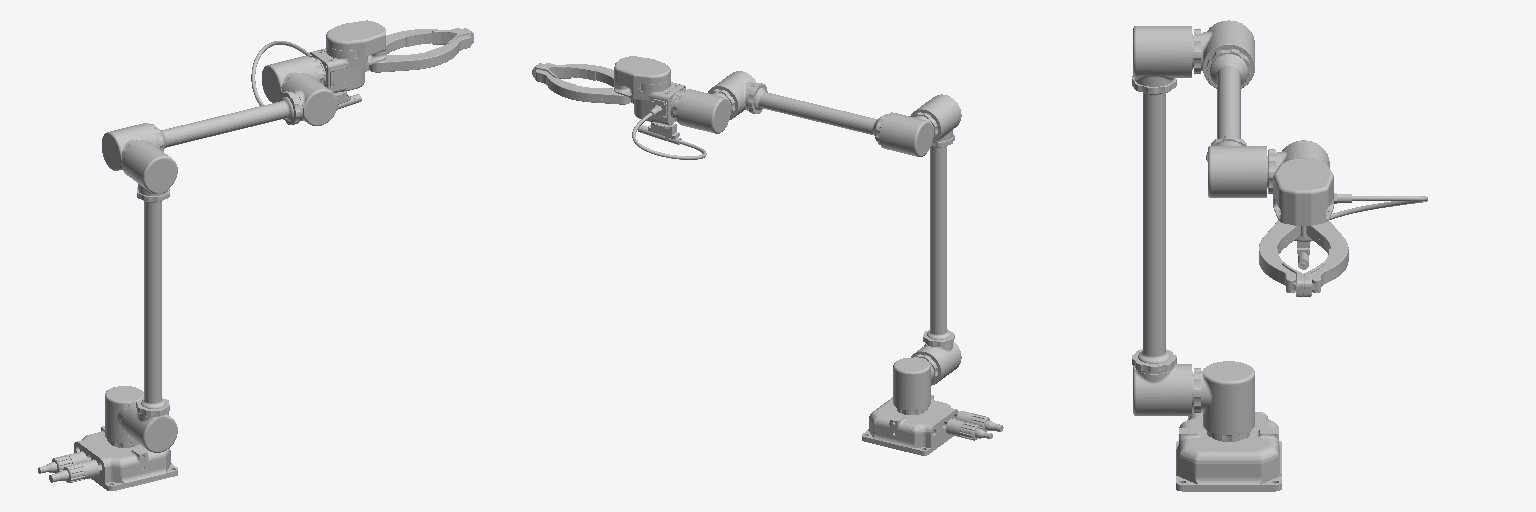
URDF robot description (hdt_arm):
<?xml version="1.0" ?>
<!-- =================================================================================== -->
<!-- |    This document was autogenerated by xacro from hdt_angler_mujoco.xacro        | -->
<!-- |    EDITING THIS FILE BY HAND IS NOT RECOMMENDED                                 | -->
<!-- =================================================================================== -->
<robot name="hdt_arm" xmlns:xacro="http://www.ros.org/wiki/xacro">
  <mujoco>
    <compiler balanceinertia="true" discardvisual="false" fusestatic="true" meshdir="../meshes/" strippath="true"/>
  </mujoco>
  <!-- materials -->
  <material name="black">
    <color rgba="0.78431372549 0.78431372549 0.78431372549 1.0"/>
  </material>
  <material name="grey">
    <color rgba="0.250980392157 0.250980392157 0.250980392157 1.0"/>
  </material>
  <material name="yellow">
    <color rgba="0.941176470588 0.878431372549 0.250980392157 1.0"/>
  </material>
  <!-- segment 0 -->
  <link name="base_link"/>
  <!-- pedestal -->
  <joint name="pedestal_joint" type="fixed">
    <origin rpy="0 0 0" xyz="0 0 0"/>
    <parent link="base_link"/>
    <child link="pedestal_link"/>
  </joint>
  <link name="pedestal_link">
    <collision>
      <origin rpy="0 0 0" xyz="0 0 0"/>
      <geometry>
        <mesh filename="package://hdt_angler_description/meshes/H026994 - A35 M-2 PEDESTAL ASSY - SHAREABLE.STL"/>
      </geometry>
    </collision>
    <visual>
      <origin rpy="0 0 0" xyz="0 0 0"/>
      <geometry>
        <mesh filename="package://hdt_angler_description/meshes/H026994 - A35 M-2 PEDESTAL ASSY - SHAREABLE.STL"/>
      </geometry>
      <material name="black"/>
    </visual>
    <inertial>
      <origin rpy="0 0 0" xyz="0 0 0"/>
      <mass value="1"/>
      <inertia ixx="0.005" ixy="0.0" ixz="0.0" iyy="0.005" iyz="0.0" izz="0.005"/>
    </inertial>
  </link>
  <!-- drive 1 -->
  <joint name="drive1_joint" type="revolute">
    <axis xyz="0 0 1"/>
    <limit effort="60.0" lower="-6.28318530718" upper="6.28318530718" velocity="0.785398163397"/>
    <origin rpy="0 0 -1.57079632679" xyz="0 0 0.08335"/>
    <parent link="pedestal_link"/>
    <child link="drive1_link"/>
    <dynamics damping="0.7" friction="0.0"/>
  </joint>
  <link name="drive1_link">
    <collision>
      <origin rpy="0 0 0" xyz="0 0 0"/>
      <geometry>
        <mesh filename="package://hdt_angler_description/meshes/H024840 - A35 M-2 DRIVE MODULE, SHAREABLE.STL"/>
      </geometry>
    </collision>
    <visual>
      <origin rpy="0 0 0" xyz="0 0 0"/>
      <geometry>
        <mesh filename="package://hdt_angler_description/meshes/H024840 - A35 M-2 DRIVE MODULE, SHAREABLE.STL"/>
      </geometry>
      <material name="black"/>
    </visual>
    <inertial>
      <origin rpy="0 0 0" xyz="0 0 0"/>
      <mass value="1"/>
      <inertia ixx="0.005" ixy="0.0" ixz="0.0" iyy="0.005" iyz="0.0" izz="0.005"/>
    </inertial>
  </link>
  <!-- drive 2 -->
  <joint name="drive2_joint" type="revolute">
    <axis xyz="0 0 1"/>
    <limit effort="60.0" lower="-1.57079632679" upper="1.57079632679" velocity="0.785398163397"/>
    <origin rpy="0 -1.57079632679 0" xyz="0.07155 0 0"/>
    <parent link="drive1_link"/>
    <child link="drive2_link"/>
    <dynamics damping="0.7" friction="0.0"/>
  </joint>
  <link name="drive2_link">
    <collision>
      <origin rpy="3.14159265359 0 0" xyz="0 0 0"/>
      <geometry>
        <mesh filename="package://hdt_angler_description/meshes/H024840 - A35 M-2 DRIVE MODULE, SHAREABLE.STL"/>
      </geometry>
    </collision>
    <visual>
      <origin rpy="3.14159265359 0 0" xyz="0 0 0"/>
      <geometry>
        <mesh filename="package://hdt_angler_description/meshes/H024840 - A35 M-2 DRIVE MODULE, SHAREABLE.STL"/>
      </geometry>
      <material name="black"/>
    </visual>
    <inertial>
      <origin rpy="3.14159265359 0 0" xyz="0 0 0"/>
      <mass value="1"/>
      <inertia ixx="0.005" ixy="0.0" ixz="0.0" iyy="0.005" iyz="0.0" izz="0.005"/>
    </inertial>
  </link>
  <!-- humerus -->
  <joint name="humerus_joint" type="fixed">
    <origin rpy="0 0 0" xyz="0.17855 0 0"/>
    <parent link="drive2_link"/>
    <child link="humerus_link"/>
  </joint>
  <link name="humerus_link">
    <collision>
      <origin rpy="0 0 0" xyz="0 0 0"/>
      <geometry>
        <mesh filename="package://hdt_angler_description/meshes/H024847 - A35 M-2 PROXIMAL TUBE ASSY - SHAREABLE.STL"/>
      </geometry>
    </collision>
    <visual>
      <origin rpy="0 0 0" xyz="0 0 0"/>
      <geometry>
        <mesh filename="package://hdt_angler_description/meshes/H024847 - A35 M-2 PROXIMAL TUBE ASSY - SHAREABLE.STL"/>
      </geometry>
      <material name="black"/>
    </visual>
    <inertial>
      <origin rpy="0 0 0" xyz="0 0 0"/>
      <mass value="1"/>
      <inertia ixx="0.005" ixy="0.0" ixz="0.0" iyy="0.005" iyz="0.0" izz="0.005"/>
    </inertial>
  </link>
  <!-- elbow -->
  <joint name="elbow_joint" type="fixed">
    <origin rpy="0 0 0" xyz="0.17855 0 0"/>
    <parent link="humerus_link"/>
    <child link="elbow_link"/>
  </joint>
  <link name="elbow_link">
    <collision>
      <origin rpy="0 3.14159265359 0" xyz="0 0 0"/>
      <geometry>
        <mesh filename="package://hdt_angler_description/meshes/H024840 - A35 M-2 DRIVE MODULE, SHAREABLE.STL"/>
      </geometry>
    </collision>
    <visual>
      <origin rpy="0 3.14159265359 0" xyz="0 0 0"/>
      <geometry>
        <mesh filename="package://hdt_angler_description/meshes/H024840 - A35 M-2 DRIVE MODULE, SHAREABLE.STL"/>
      </geometry>
      <material name="black"/>
    </visual>
    <inertial>
      <origin rpy="0 3.14159265359 0" xyz="0 0 0"/>
      <mass value="1"/>
      <inertia ixx="0.005" ixy="0.0" ixz="0.0" iyy="0.005" iyz="0.0" izz="0.005"/>
    </inertial>
  </link>
  <!-- drive 3 -->
  <joint name="drive3_joint" type="revolute">
    <axis xyz="0 0 1"/>
    <!-- position limits to match parameter settings on actuator -->
    <limit effort="60.0" lower="-4.49" upper="1.35" velocity="0.785398163397"/>
    <origin rpy="0 0 0" xyz="0 0 0.07155"/>
    <parent link="elbow_link"/>
    <child link="drive3_link"/>
    <dynamics damping="0.7" friction="0.0"/>
  </joint>
  <link name="drive3_link">
    <collision>
      <origin rpy="0 1.57079632679 -1.57079632679" xyz="0 0 0"/>
      <geometry>
        <mesh filename="package://hdt_angler_description/meshes/H024840 - A35 M-2 DRIVE MODULE, SHAREABLE.STL"/>
      </geometry>
    </collision>
    <visual>
      <origin rpy="0 1.57079632679 -1.57079632679" xyz="0 0 0"/>
      <geometry>
        <mesh filename="package://hdt_angler_description/meshes/H024840 - A35 M-2 DRIVE MODULE, SHAREABLE.STL"/>
      </geometry>
      <material name="black"/>
    </visual>
    <inertial>
      <origin rpy="0 1.57079632679 -1.57079632679" xyz="0 0 0"/>
      <mass value="1"/>
      <inertia ixx="0.005" ixy="0.0" ixz="0.0" iyy="0.005" iyz="0.0" izz="0.005"/>
    </inertial>
  </link>
  <!-- drive 4 -->
  <joint name="drive4_joint" type="revolute">
    <axis xyz="0 0 1"/>
    <limit effort="60.0" lower="-6.28318530718" upper="6.28318530718" velocity="0.785398163397"/>
    <origin rpy="-1.57079632679 0 0" xyz="0 0.142 0"/>
    <parent link="drive3_link"/>
    <child link="drive4_link"/>
    <dynamics damping="0.7" friction="0.0"/>
  </joint>
  <link name="drive4_link">
    <collision>
      <origin rpy="3.14159265359 0 0" xyz="0 0 0"/>
      <geometry>
        <mesh filename="package://hdt_angler_description/meshes/H024848 - A35 M-2 DISTAL TUBE ASSY - SHAREABLE.STL"/>
      </geometry>
    </collision>
    <visual>
      <origin rpy="3.14159265359 0 0" xyz="0 0 0"/>
      <geometry>
        <mesh filename="package://hdt_angler_description/meshes/H024848 - A35 M-2 DISTAL TUBE ASSY - SHAREABLE.STL"/>
      </geometry>
      <material name="black"/>
    </visual>
    <inertial>
      <origin rpy="3.14159265359 0 0" xyz="0 0 0"/>
      <mass value="1"/>
      <inertia ixx="0.005" ixy="0.0" ixz="0.0" iyy="0.005" iyz="0.0" izz="0.005"/>
    </inertial>
  </link>
  <!-- wrist -->
  <joint name="wrist_joint" type="fixed">
    <origin rpy="1.57079632679 -1.57079632679 3.14159265359" xyz="0 0 0.12955"/>
    <parent link="drive4_link"/>
    <child link="wrist_link"/>
  </joint>
  <link name="wrist_link">
    <collision>
      <origin rpy="0 0 3.14159265359" xyz="0 0 0"/>
      <geometry>
        <mesh filename="package://hdt_angler_description/meshes/H024840 - A35 M-2 DRIVE MODULE, SHAREABLE.STL"/>
      </geometry>
    </collision>
    <visual>
      <origin rpy="0 0 3.14159265359" xyz="0 0 0"/>
      <geometry>
        <mesh filename="package://hdt_angler_description/meshes/H024840 - A35 M-2 DRIVE MODULE, SHAREABLE.STL"/>
      </geometry>
      <material name="black"/>
    </visual>
    <inertial>
      <origin rpy="0 0 3.14159265359" xyz="0 0 0"/>
      <mass value="1"/>
      <inertia ixx="0.005" ixy="0.0" ixz="0.0" iyy="0.005" iyz="0.0" izz="0.005"/>
    </inertial>
  </link>
  <!-- drive 5 -->
  <joint name="drive5_joint" type="revolute">
    <axis xyz="0 0 1"/>
    <limit effort="60.0" lower="-6.28318530718" upper="6.28318530718" velocity="0.785398163397"/>
    <origin rpy="3.14159265359 0 0" xyz="0 0 -0.07155"/>
    <parent link="wrist_link"/>
    <child link="drive5_link"/>
    <dynamics damping="0.7" friction="0.0"/>
  </joint>
  <link name="drive5_link">
    <collision>
      <origin rpy="0 1.57079632679 3.14159265359" xyz="0 0 0"/>
      <geometry>
        <mesh filename="package://hdt_angler_description/meshes/H024840 - A35 M-2 DRIVE MODULE, SHAREABLE.STL"/>
      </geometry>
    </collision>
    <visual>
      <origin rpy="0 1.57079632679 3.14159265359" xyz="0 0 0"/>
      <geometry>
        <mesh filename="package://hdt_angler_description/meshes/H024840 - A35 M-2 DRIVE MODULE, SHAREABLE.STL"/>
      </geometry>
      <material name="black"/>
    </visual>
    <inertial>
      <origin rpy="0 0 0" xyz="0 0 0"/>
      <mass value="1"/>
      <inertia ixx="0.005" ixy="0.0" ixz="0.0" iyy="0.005" iyz="0.0" izz="0.005"/>
    </inertial>
  </link>
  <!-- drive 6 -->
  <joint name="drive6_joint" type="revolute">
    <axis xyz="0 0 1"/>
    <limit effort="60.0" lower="-6.28318530718" upper="6.28318530718" velocity="0.785398163397"/>
    <origin rpy="0 1.57079632679 0" xyz="0.0885 0 0"/>
    <parent link="drive5_link"/>
    <child link="drive6_link"/>
    <dynamics damping="0.7" friction="0.0"/>
  </joint>
  <link name="drive6_link">
    <collision>
      <origin rpy="0 1.57079632679 -1.57079632679" xyz="0 0 0"/>
      <geometry>
        <mesh filename="package://hdt_angler_description/meshes/H024842 - A35 M-2 PINCER ASSY - SHAREABLE, UNDERWATER.STL"/>
      </geometry>
    </collision>
    <visual>
      <origin rpy="0 1.57079632679 -1.57079632679" xyz="0 0 0"/>
      <geometry>
        <mesh filename="package://hdt_angler_description/meshes/H024842 - A35 M-2 PINCER ASSY - SHAREABLE, UNDERWATER.STL"/>
      </geometry>
      <material name="black"/>
    </visual>
    <inertial>
      <origin rpy="0 0 0" xyz="0 0 0"/>
      <mass value="1"/>
      <inertia ixx="0.005" ixy="0.0" ixz="0.0" iyy="0.005" iyz="0.0" izz="0.005"/>
    </inertial>
  </link>
  <!-- Pincers -->
  <joint name="pincer_joint" type="revolute">
    <hdt id="10" inertia="0.075" kmax="150" kmin="75"/>
    <axis xyz="0 0 1"/>
    <limit effort="60.0" lower="-0.2" upper="0.9" velocity="0.5"/>
    <origin rpy="-1.57079632679 -1.57079632679 0" xyz="0.0135 0 0.0375"/>
    <parent link="drive6_link"/>
    <child link="pincer_link"/>
    <dynamics damping="0.7" friction="0.0"/>
  </joint>
  <link name="pincer_link">
    <collision>
      <origin rpy="3.14159265359 0 0" xyz="0 0 0"/>
      <geometry>
        <mesh filename="package://hdt_angler_description/meshes/H022927 - A35 PINCER FINGER, LONG, OVERMOLD ASSY - SHAREABLE.STL"/>
      </geometry>
    </collision>
    <visual>
      <origin rpy="3.14159265359 0 0" xyz="0 0 0"/>
      <geometry>
        <mesh filename="package://hdt_angler_description/meshes/H022927 - A35 PINCER FINGER, LONG, OVERMOLD ASSY - SHAREABLE.STL"/>
      </geometry>
      <material name="black"/>
    </visual>
  </link>
  <!-- EE 2 -->
  <!-- THIS IS THE SECOND PINCER, NEEDS TO MOVE EQUAL BUT OPPOSITE AS PINCER 1 -->
  <joint name="pincer_joint2" type="revolute">
    <!--<hdt id="10b" kmin="75" kmax="150" inertia="0.075"/>-->
    <axis xyz="0 0 1"/>
    <origin rpy="-1.57079632679 -1.57079632679 3.14159265359" xyz="-0.0135 0 0.0375"/>
    <parent link="drive6_link"/>
    <child link="pincer_link2"/>
    <calibration rising="0.0"/>
    <dynamics damping="0.7" friction="0.0"/>
    <limit effort="60.0" lower="-0.2" upper="1" velocity="0.5"/>
    <mimic joint="pincer_joint" multiplier="1" offset="0.0"/>
  </joint>
  <link name="pincer_link2">
    <collision>
      <origin rpy="3.14159265359 0 0" xyz="0 0 0"/>
      <geometry>
        <mesh filename="package://hdt_angler_description/meshes/H022927 - A35 PINCER FINGER, LONG, OVERMOLD ASSY - SHAREABLE.STL"/>
      </geometry>
    </collision>
    <visual>
      <origin rpy="3.14159265359 0 0" xyz="0 0 0"/>
      <geometry>
        <mesh filename="package://hdt_angler_description/meshes/H022927 - A35 PINCER FINGER, LONG, OVERMOLD ASSY - SHAREABLE.STL"/>
      </geometry>
      <material name="black"/>
    </visual>
  </link>
  <!-- endpoint -->
  <joint name="endpoint_joint" type="fixed">
    <origin rpy="1.57079632679 -1.57079632679 0" xyz="0 0 0.17"/>
    <parent link="drive6_link"/>
    <child link="endpoint_link"/>
  </joint>
  <link name="endpoint_link">
    </link>
</robot>

--- What the picture shows (computed from the rendered views, not written in the file) ---
Views: 3 orthographic renders of the robot side by side, from view 1: azimuth 30°, elevation 25°; view 2: azimuth 150°, elevation 25°; view 3: azimuth 270°, elevation 25°.
Robot: hdt_arm — 14 links, 13 joints (8 revolute, 5 fixed); root link base_link; default pose: all joints at 0.
Visible links, largest first — view 1: pedestal_link, drive6_link, humerus_link, drive4_link, elbow_link, drive2_link, wrist_link, pincer_link, drive1_link, drive3_link, drive5_link, pincer_link2; view 2: pedestal_link, drive6_link, humerus_link, drive4_link, drive1_link, drive5_link, drive3_link, pincer_link2, elbow_link, wrist_link, drive2_link, pincer_link; view 3: humerus_link, pedestal_link, drive6_link, drive1_link, elbow_link, wrist_link, drive2_link, drive4_link, drive3_link, pincer_link2, pincer_link, drive5_link.
Link boxes in pixels (<box>): pedestal_link: <box>38,426,177,490</box>; drive6_link: <box>251,20,385,119</box>; humerus_link: <box>136,187,169,415</box>; drive4_link: <box>159,91,300,148</box>; elbow_link: <box>121,140,177,195</box>; drive2_link: <box>121,401,177,452</box>; wrist_link: <box>281,73,337,125</box>; pincer_link: <box>369,30,473,72</box>; drive1_link: <box>105,386,143,447</box>; drive3_link: <box>102,123,163,170</box>; drive5_link: <box>262,56,323,102</box>; pincer_link2: <box>386,28,468,54</box>; pedestal_link: <box>862,395,1003,455</box>; drive6_link: <box>614,56,706,159</box>; humerus_link: <box>923,134,954,345</box>; drive4_link: <box>748,83,879,135</box>; drive1_link: <box>893,357,933,414</box>; drive5_link: <box>673,89,731,133</box>; drive3_link: <box>875,112,933,156</box>; pincer_link2: <box>532,65,630,104</box>; elbow_link: <box>910,94,961,142</box>; wrist_link: <box>708,71,755,119</box>; drive2_link: <box>911,342,961,385</box>; pincer_link: <box>538,63,613,86</box>; humerus_link: <box>1132,76,1176,372</box>; pedestal_link: <box>1176,406,1281,491</box>; drive6_link: <box>1273,158,1427,269</box>; drive1_link: <box>1201,361,1254,441</box>; elbow_link: <box>1133,26,1200,86</box>; wrist_link: <box>1208,141,1275,197</box>; drive2_link: <box>1133,364,1200,415</box>; drive4_link: <box>1206,54,1248,161</box>; drive3_link: <box>1201,20,1254,88</box>; pincer_link2: <box>1303,221,1348,296</box>; pincer_link: <box>1259,220,1303,296</box>; drive5_link: <box>1276,140,1329,170</box>.
Size in the robot's own frame: 0.6633 by 0.2838 by 0.4857 metres.
12 mesh visuals loaded from 6 distinct referenced files (6 binary STL).